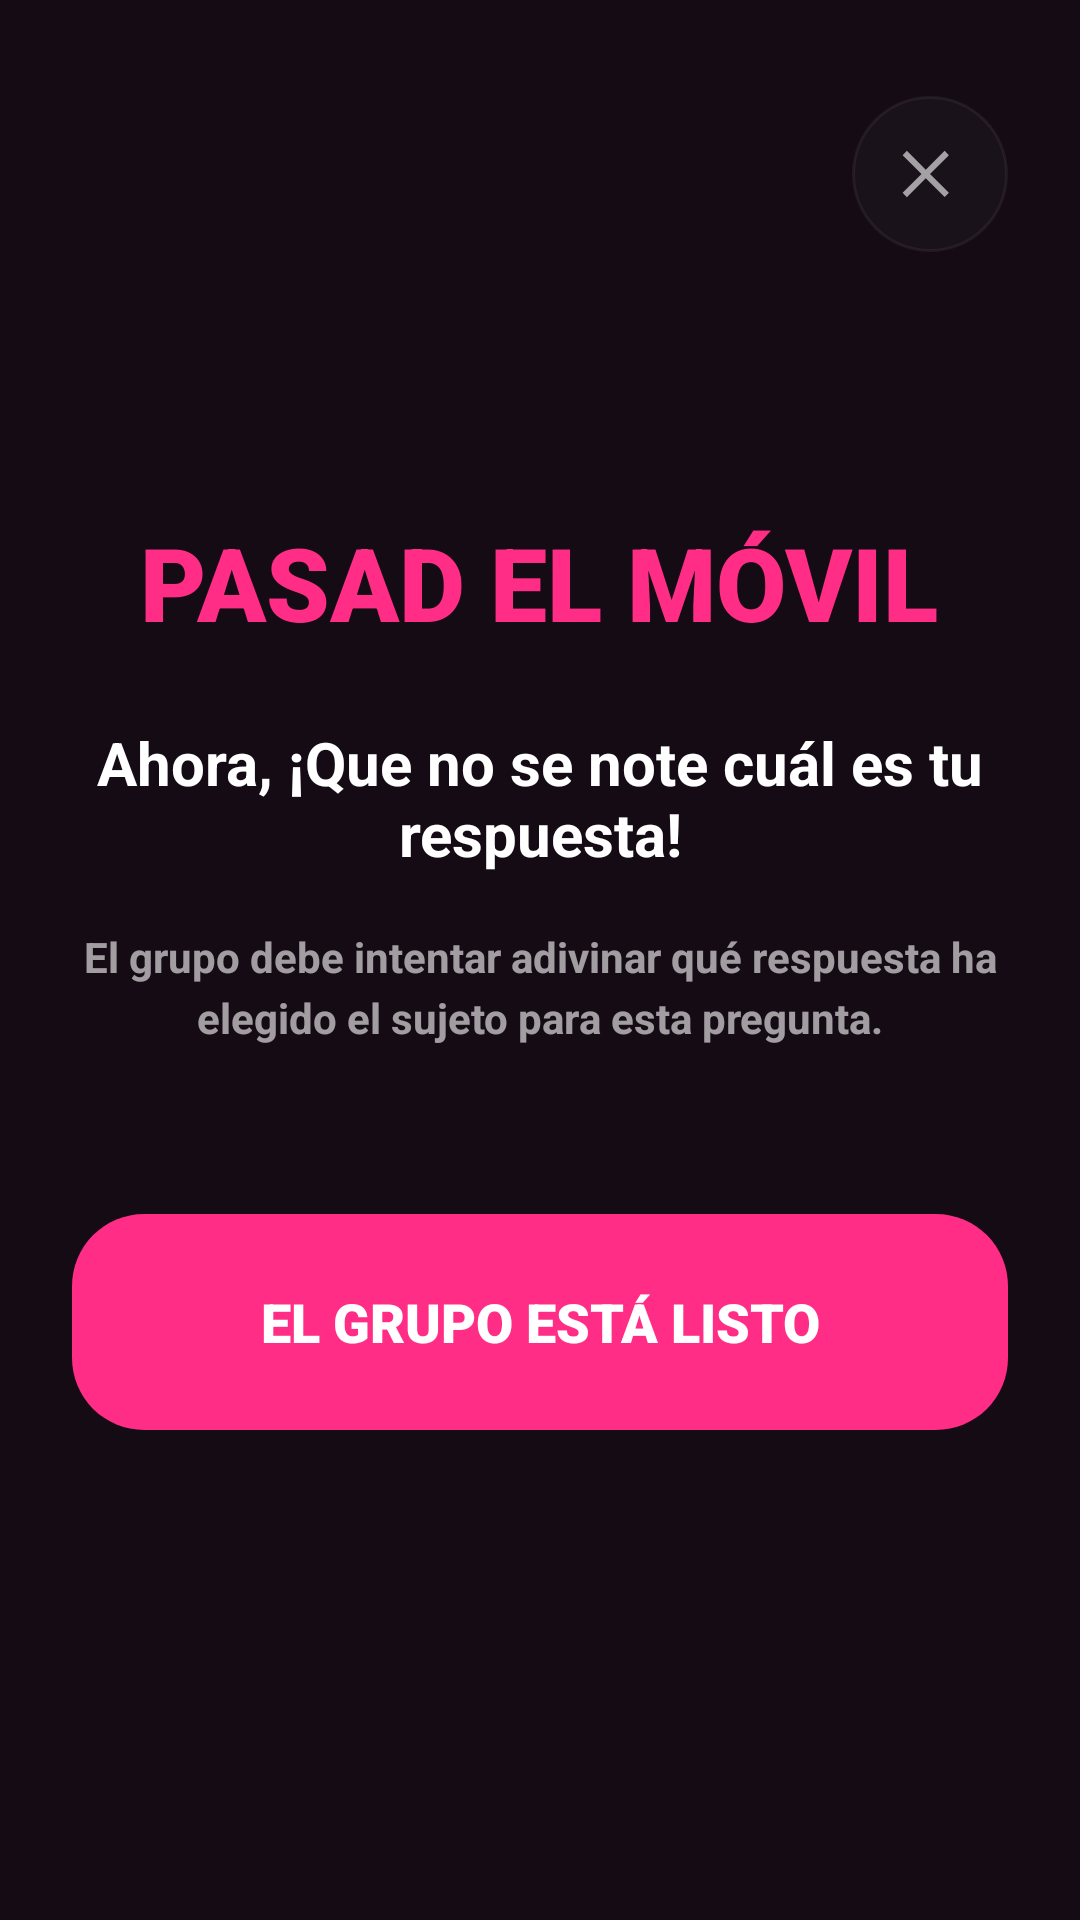

Screen size 1080×1920. Icon name, then its box in pixels as (x1, y1, x2, y2):
Cerrar: (902, 151, 949, 197)
